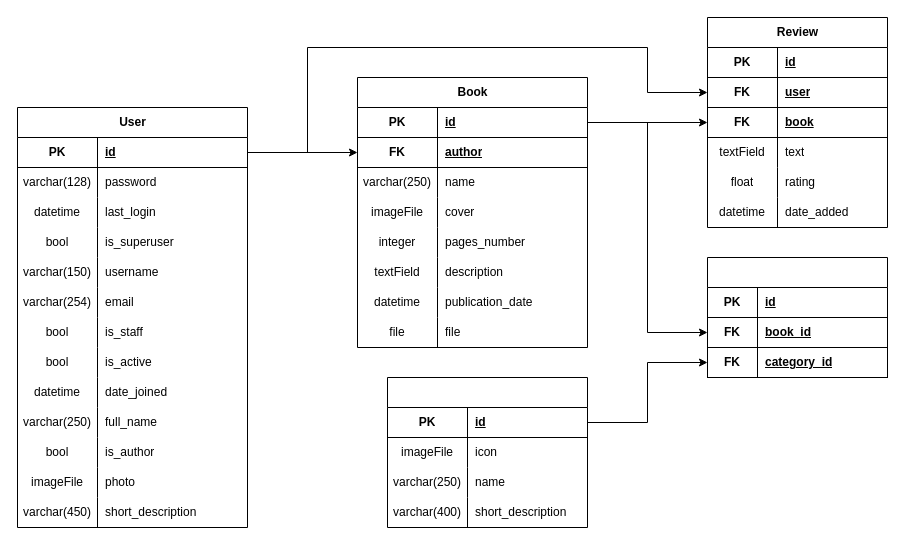
Some shapes in this 905 by 545 pixel diagram are drawn without their labels. Here are the shapes that lost their labels. From the top down, the box of each, then its label:
(706, 256, 888, 378): BookCategories
(386, 376, 588, 528): Category
